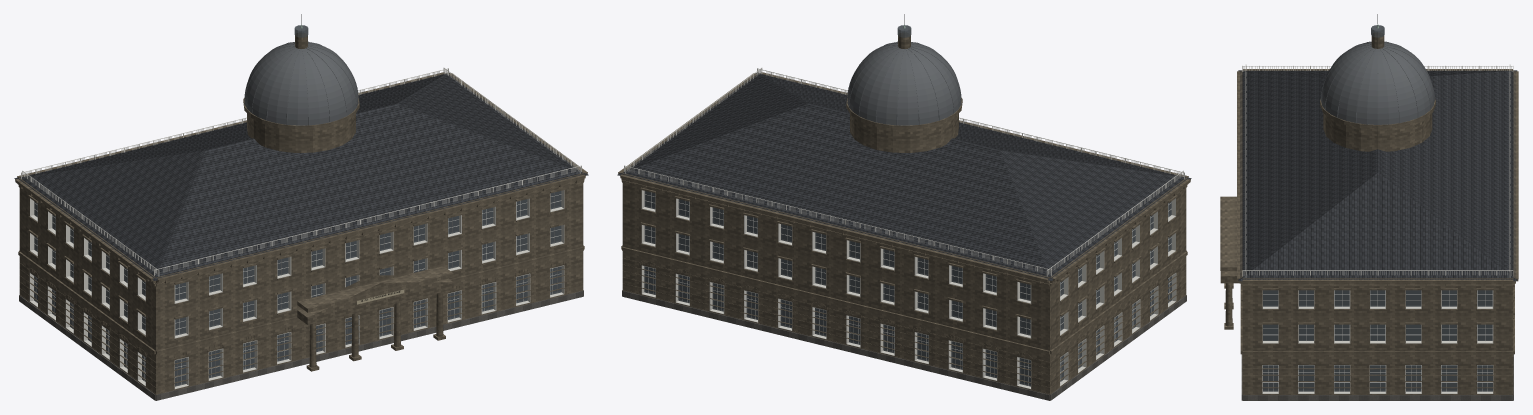
The model's file is A_customhouse.glb.
3 renders of one model, left to right at view 1: azimuth 30°, elevation 25°; view 2: azimuth 150°, elevation 25°; view 3: azimuth 270°, elevation 25°, orthographic.
Visible parts, largest first — view 1: A_customhouse; view 2: A_customhouse; view 3: A_customhouse.
Part boxes in pixels (x1,y1,x2,y2): A_customhouse: [14, 14, 588, 400]; A_customhouse: [617, 14, 1191, 400]; A_customhouse: [1220, 14, 1518, 400].
Size of the model in its own units: 59.31 by 36.92 by 35.31.
Materials: 10 (5 with a texture image).
